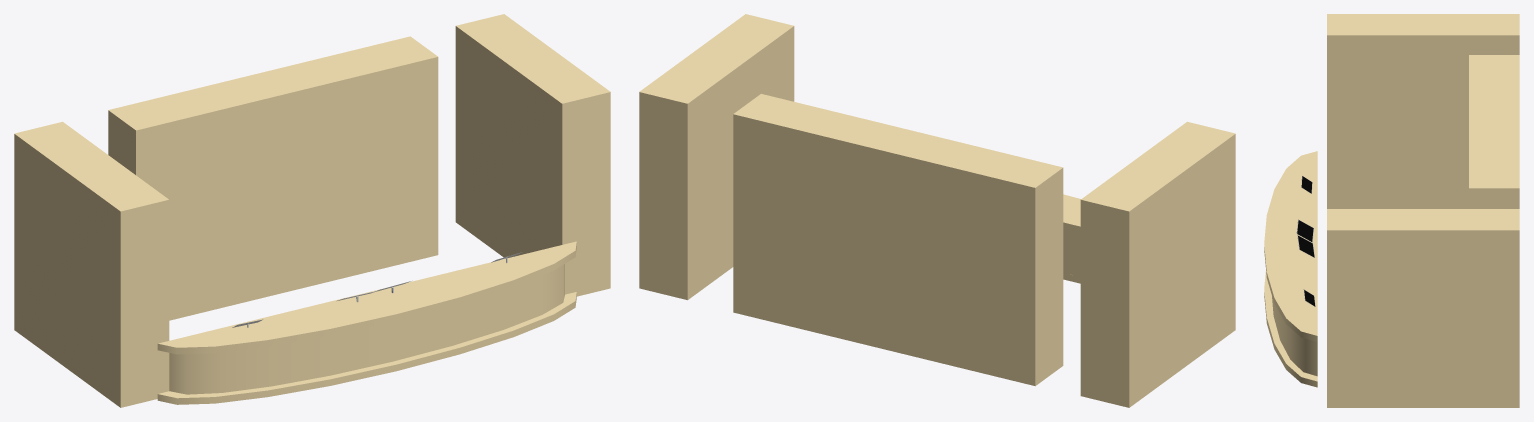
Rendered from Lobby Desk.fbx.
3 renders of one model, left to right at view 1: azimuth 30°, elevation 25°; view 2: azimuth 150°, elevation 25°; view 3: azimuth 270°, elevation 25°, orthographic. The views are drawn at different scales.
Visible parts, largest first — view 1: pCube3, pCube12, pCube13, pCylinder5; view 2: pCube3, pCube12, pCube13, pCylinder5; view 3: pCube13, pCube12, pCylinder5, pCube3, pCube11.
Part boxes in pixels (<box>): pCube3: <box>108,36,438,320</box>; pCube12: <box>14,121,169,407</box>; pCube13: <box>455,14,610,296</box>; pCylinder5: <box>157,241,576,404</box>; pCube3: <box>733,94,1063,386</box>; pCube12: <box>1080,121,1235,407</box>; pCube13: <box>639,14,794,300</box>; pCylinder5: <box>1063,194,1080,283</box>; pCube13: <box>1327,209,1519,407</box>; pCube12: <box>1327,14,1519,208</box>; pCylinder5: <box>1264,151,1317,387</box>; pCube3: <box>1469,55,1519,208</box>; pCube11: <box>1296,219,1313,242</box>.
Bounding box in the file's own units: 191 × 73.99 × 95.56.
